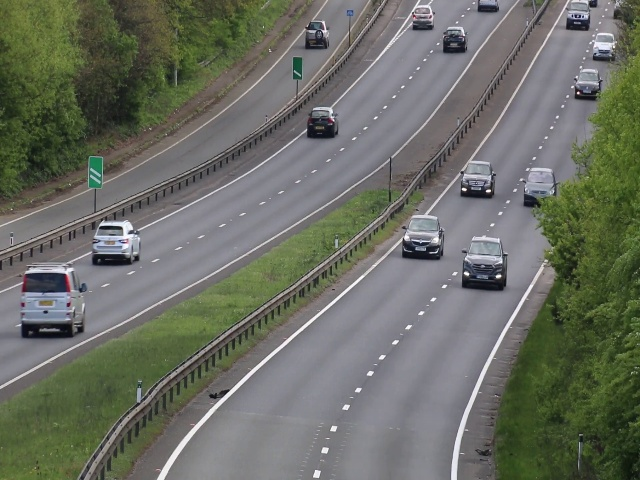car: (21, 263, 88, 341), (464, 234, 506, 290), (93, 220, 143, 264), (405, 212, 444, 258), (460, 160, 495, 199), (525, 166, 552, 208), (307, 105, 338, 138), (304, 20, 330, 49), (577, 69, 600, 101), (566, 1, 589, 32), (443, 26, 468, 53), (595, 31, 615, 60), (412, 5, 435, 30)
